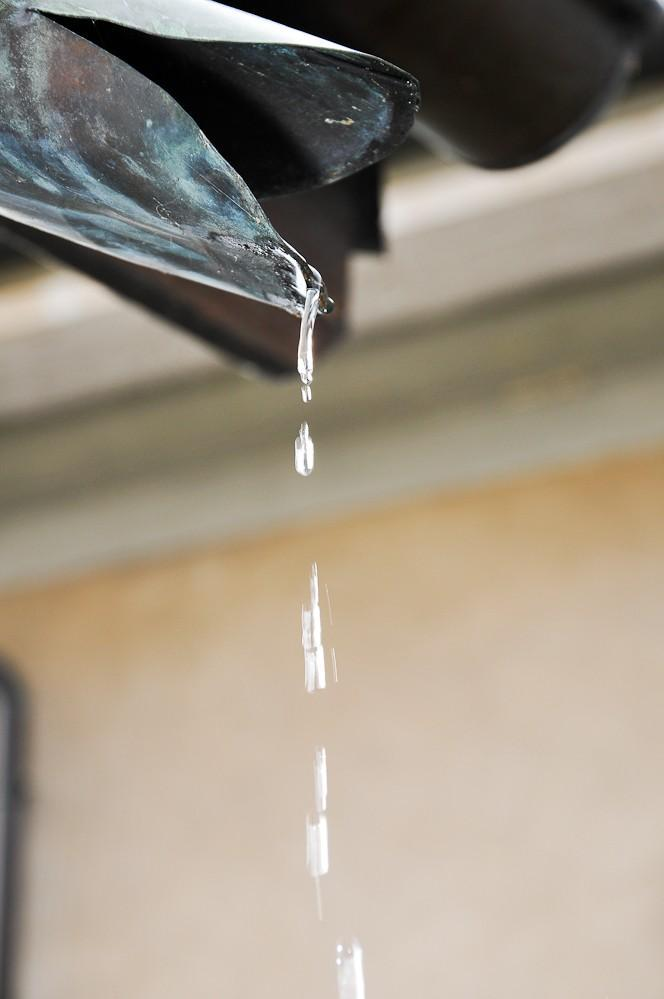water drop: (296, 742, 336, 880), (300, 570, 323, 697), (328, 930, 366, 999), (296, 311, 323, 394), (295, 420, 316, 481)
